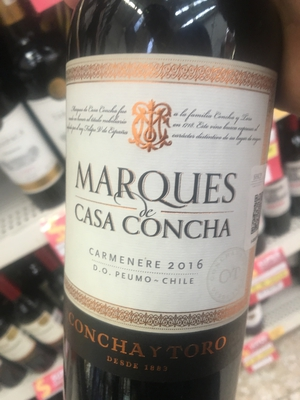marques de casa concha carmenere: (61, 12, 286, 400)
